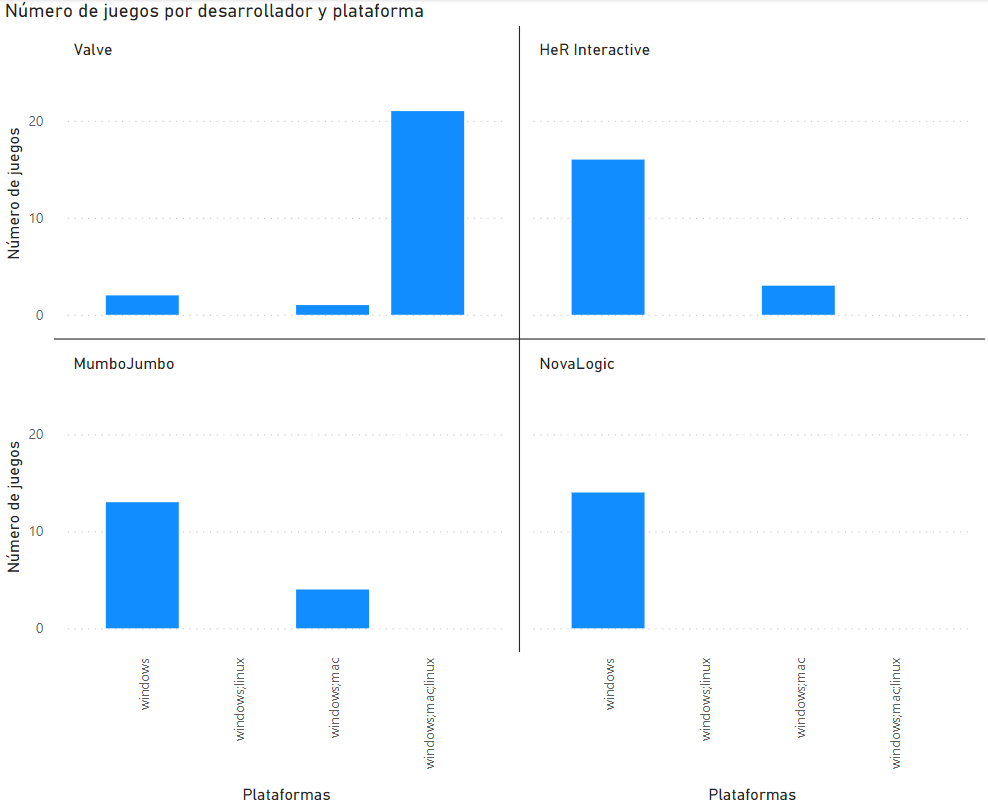

The page's visual inventory and layout, read from the dashboard file:
{"tool":"powerbi","page":{"name":"Small multiples","canvas":[1280,720],"ordinal":1},"visuals":[{"type":"columnChart","title":"Número de juegos por desarrollador y plataforma","fields":{"Rows":["steam.developer"],"Y":["CountNonNull(steam.name)"],"Category":["steam.platforms"]},"box":[9.7,0,893.8,719.6],"z":0},{"type":"slicer","fields":{"Values":["steam.developer"]},"box":[914,0,366,720],"z":1000}]}

Visuals, with their boxes on the page's 1280x720 design canvas (x1, y1, x2, y2). These are canvas units, not pixel positions in the 988x807 screenshot, which may show the page scaled, cropped or inside an application window:
"Número de juegos por desarrollador y plataforma" columnChart: x1=10 y1=0 x2=904 y2=720
slicer - steam.developer: x1=914 y1=0 x2=1280 y2=720
